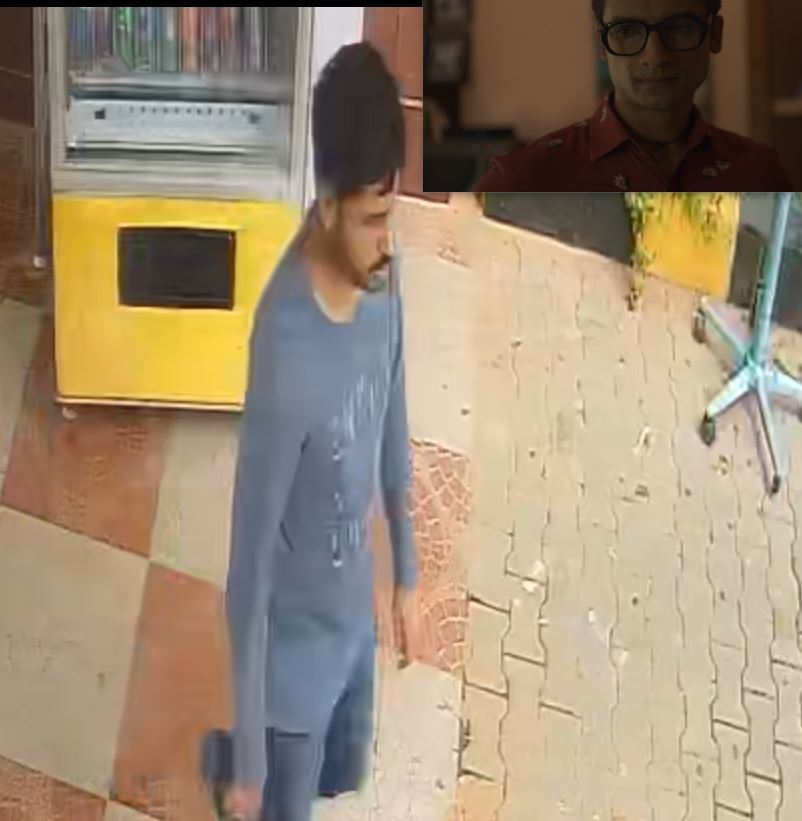intruder: (212, 36, 420, 821)
